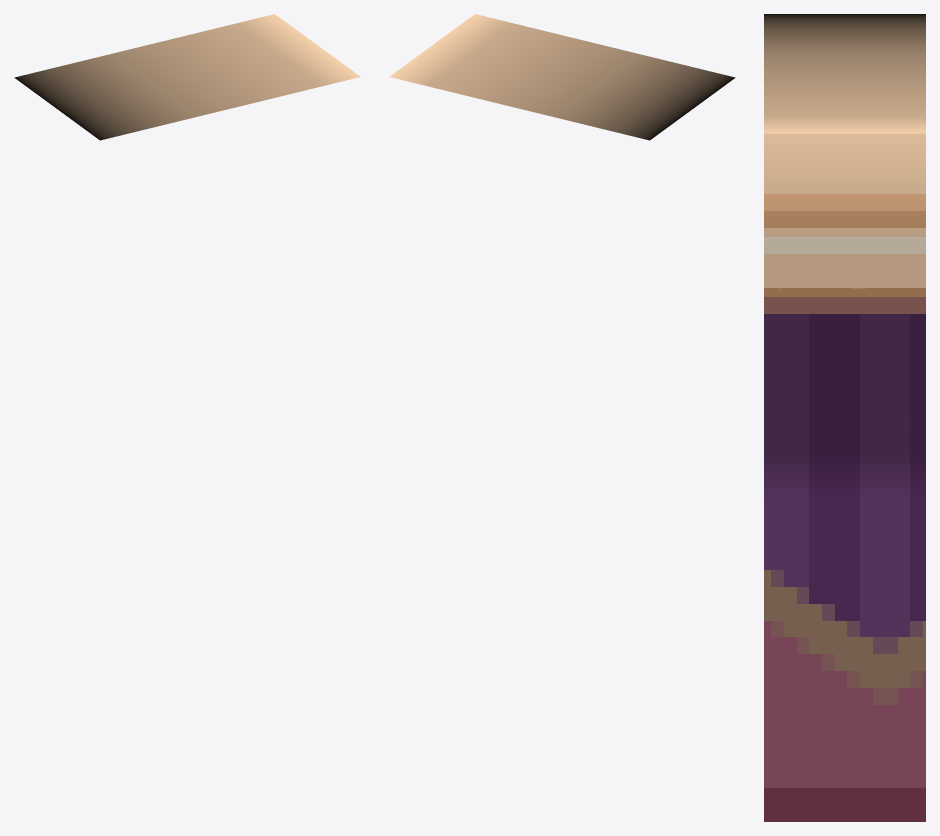
The picture shows the model from 3 angles, left to right: view 1: azimuth 30°, elevation 25°; view 2: azimuth 150°, elevation 25°; view 3: azimuth 270°, elevation 25°; orthographic projection. The views are drawn at different scales.
Bounding box in the file's own units: 1.75 × 4.75 × 1.
3 materials, 3 textured.
